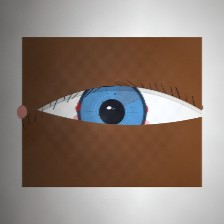hemorrhage_spot: (62, 70, 162, 149)
